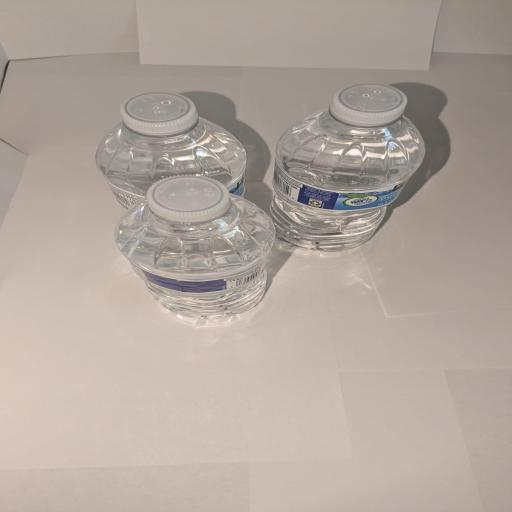waterbottle: (271, 85, 424, 250), (117, 176, 274, 318), (96, 93, 246, 207)
